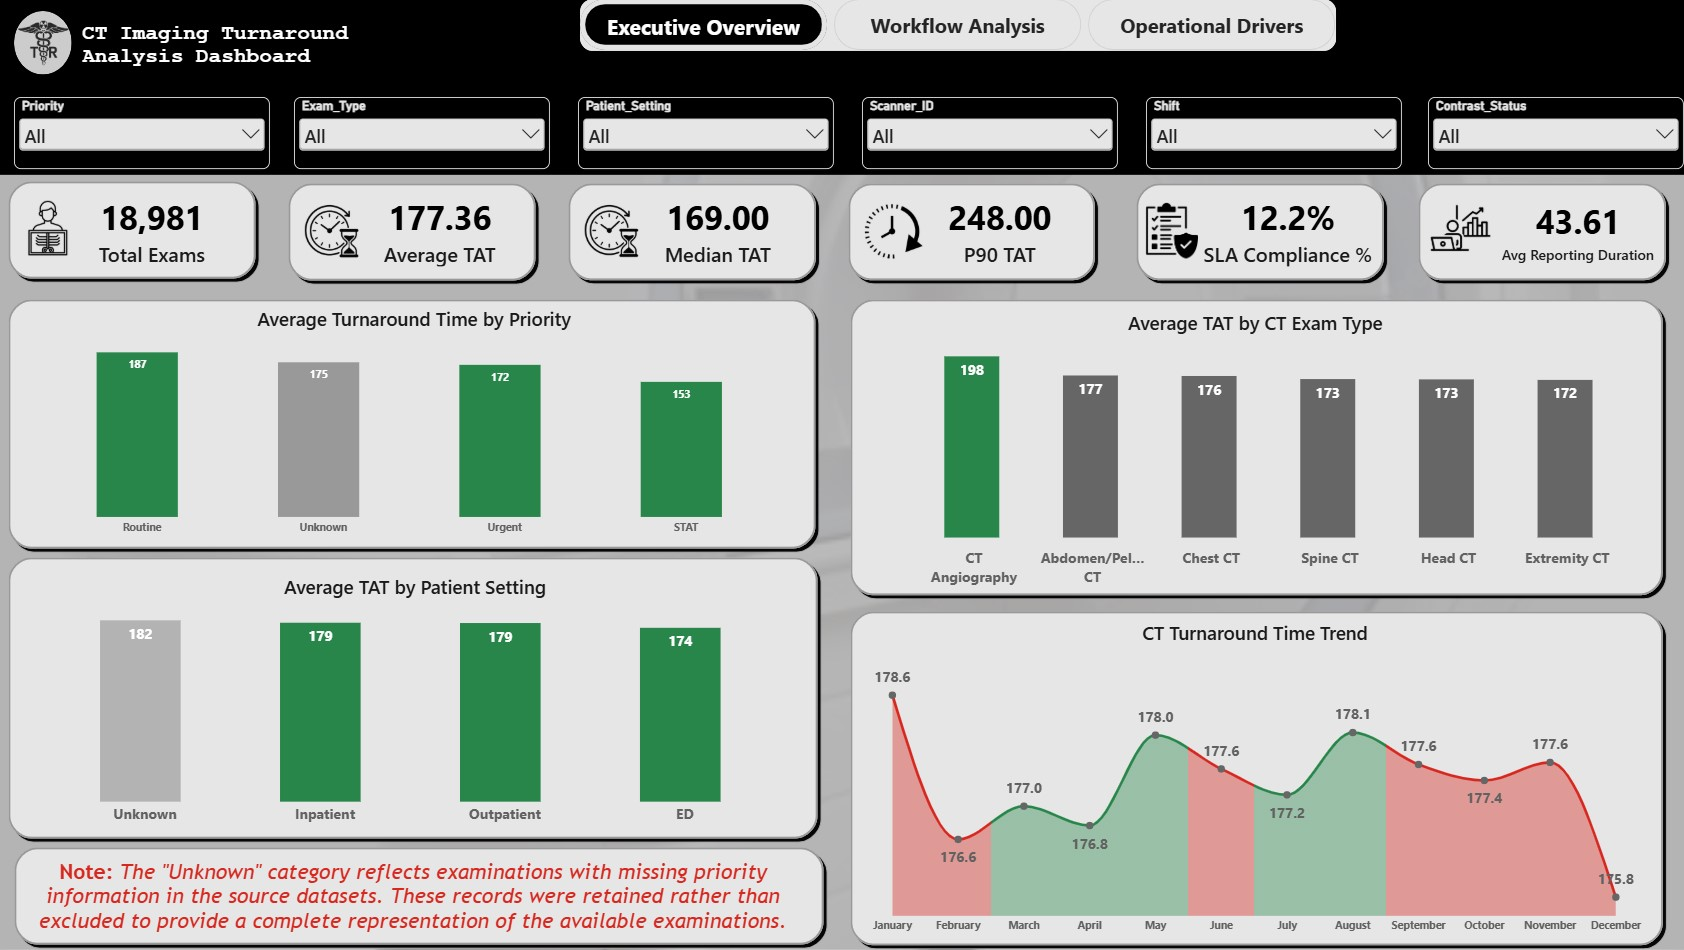

This screenshot's page, from the dashboard's own definition file:
{"tool":"powerbi","page":{"name":"Executive Overview","canvas":[1920,1080],"ordinal":0},"visuals":[{"type":"shape","box":[0,0,1920,200.2],"z":0},{"type":"shape","box":[1611.8,204,291.7,120.2],"z":0,"group":"g6"},{"type":"group","id":"g1","title":"Group 1","box":[20,13.8,66.2,71.2],"z":1000},{"type":"cardVisual","fields":{"Data":["Fact_CT_Exams.Avg Reporting Duration"]},"box":[1693.8,204,209.3,120.9],"z":1000,"group":"g6"},{"type":"textbox","box":[98.8,25,317.5,61.2],"z":2000},{"type":"image","box":[1617.1,231.9,95.3,57],"z":2000,"group":"g6"},{"type":"shape","box":[664.3,0,860.2,59.2],"z":3000},{"type":"shape","box":[20,13.8,65.7,72.3],"z":3000,"group":"g1"},{"type":"image","box":[24,21.8,58.2,56.4],"z":3500,"group":"g1"},{"type":"slicer","fields":{"Values":["Fact_CT_Exams.Priority"]},"box":[20.5,111.5,291.2,81.9],"z":4000},{"type":"slicer","fields":{"Values":["Fact_CT_Exams.Exam_Type"]},"box":[339,111.5,291.2,81.9],"z":5000},{"type":"slicer","fields":{"Values":["Fact_CT_Exams.Patient_Setting"]},"box":[662,111.5,291.2,81.9],"z":6000},{"type":"slicer","fields":{"Values":["Fact_CT_Exams.Scanner_ID"]},"box":[985,111.5,291.2,81.9],"z":7000},{"type":"slicer","fields":{"Values":["Fact_CT_Exams.Shift"]},"box":[1308.1,111.5,291.2,81.9],"z":8000},{"type":"slicer","fields":{"Values":["Fact_CT_Exams.Contrast_Status"]},"box":[1629.5,112.1,291.2,81.9],"z":9000},{"type":"shape","box":[8.4,202,291.2,120.6],"z":10000},{"type":"group","id":"g2","title":"Group 3","box":[326.9,204.2,291.6,120.6],"z":11000},{"type":"shape","box":[326.9,204.2,291.2,120.6],"z":11000,"group":"g2"},{"type":"group","id":"g3","title":"Group 4","box":[646.3,204,291.7,120.2],"z":12000},{"type":"shape","box":[646.3,204,291.7,120.2],"z":12000,"group":"g3"},{"type":"group","id":"g4","title":"Group 5","box":[965.3,204,292,120.2],"z":13000},{"type":"shape","box":[965.3,204,290.5,120.2],"z":13000,"group":"g4"},{"type":"group","id":"g5","title":"Group 6","box":[1292.7,204,292.6,120.2],"z":14000},{"type":"shape","box":[1292.7,204,291.7,120.2],"z":14000,"group":"g5"},{"type":"group","id":"g6","title":"Group 7","box":[1611.8,204,291.7,120.9],"z":15000},{"type":"cardVisual","fields":{"Data":["Fact_CT_Exams.Total Exams"]},"box":[64,214.4,227.8,96],"z":16000,"group":"g7"},{"type":"shape","box":[9.1,336.7,928.2,293.5],"z":16000},{"type":"group","id":"g7","title":"Group 2","box":[18.1,213,273.7,97.4],"z":17000},{"type":"image","box":[18.1,213,81.6,93.6],"z":17000,"group":"g7"},{"type":"cardVisual","fields":{"Data":["Fact_CT_Exams.Average TAT"]},"box":[390.6,215.5,227.8,96],"z":18000,"group":"g2"},{"type":"shape","box":[965.9,336,934.2,346.6],"z":18000},{"type":"image","box":[326.9,219.9,109.7,89.4],"z":19000,"group":"g2"},{"type":"shape","box":[9.1,630.1,930.4,329.9],"z":19000},{"type":"cardVisual","fields":{"Data":["Fact_CT_Exams.Median TAT"]},"box":[708.7,214.4,227.8,96],"z":20000,"group":"g3"},{"type":"shape","box":[965.7,691.4,934.3,390],"z":20000},{"type":"image","box":[646.4,219.6,109.2,88.7],"z":21000,"group":"g3"},{"type":"clusteredColumnChart","title":"Average Turnaround Time by Priority","fields":{"Category":["Fact_CT_Exams.Priority"],"Y":["Fact_CT_Exams.Average TAT"]},"box":[15.9,334.4,919.1,295.7],"z":21000},{"type":"cardVisual","fields":{"Data":["Fact_CT_Exams.P90 TAT"]},"box":[1029.5,214.4,227.8,96],"z":22000,"group":"g4"},{"type":"clusteredColumnChart","title":"Average TAT by CT Exam Type","fields":{"Y":["Fact_CT_Exams.Average TAT"],"Category":["Fact_CT_Exams.Exam_Type"]},"box":[974.3,338.2,917.3,346.6],"z":22000},{"type":"image","box":[965.3,218.3,109.5,91.7],"z":23000,"group":"g4"},{"type":"clusteredColumnChart","title":"Average TAT by Patient Setting","fields":{"Y":["Fact_CT_Exams.Average TAT"],"Category":["Fact_CT_Exams.Patient_Setting"]},"box":[20.5,639.2,912.2,320.8],"z":23000},{"type":"cardVisual","fields":{"Data":["Fact_CT_Exams.SLA Compliance %"]},"box":[1357.4,215.6,227.8,96],"z":24000,"group":"g5"},{"type":"lineChart","title":"CT Turnaround Time Trend","fields":{"Category":["DateTable.Date.Variation.Date Hierarchy.Month"],"Y":["Fact_CT_Exams.Average TAT"]},"box":[973.6,691.6,916.8,391.3],"z":24000},{"type":"pageNavigator","box":[664.4,0,860.3,58.9],"z":25000},{"type":"image","box":[1304.2,228.4,68.6,67.4],"z":25000,"group":"g5"},{"type":"shape","box":[15.9,960,930.4,120.6],"z":25001},{"type":"textbox","box":[31.8,978.2,884.9,88.7],"z":25002}]}

Visuals, with their boxes in screenshot pixels (x1, y1, x2, y2), scaled from the page's 1920x1080 canvas onto the 1684x950 screenshot:
shape: rect(0, 0, 1683, 176)
shape: rect(1414, 179, 1670, 285)
"Group 1" group: rect(18, 12, 76, 75)
cardVisual - Fact_CT_Exams.Avg Reporting Duration: rect(1486, 179, 1669, 286)
textbox: rect(87, 22, 365, 76)
image: rect(1418, 204, 1502, 254)
shape: rect(583, 0, 1337, 52)
shape: rect(18, 12, 75, 76)
image: rect(21, 19, 72, 69)
slicer - Fact_CT_Exams.Priority: rect(18, 98, 273, 170)
slicer - Fact_CT_Exams.Exam_Type: rect(297, 98, 553, 170)
slicer - Fact_CT_Exams.Patient_Setting: rect(581, 98, 836, 170)
slicer - Fact_CT_Exams.Scanner_ID: rect(864, 98, 1119, 170)
slicer - Fact_CT_Exams.Shift: rect(1147, 98, 1403, 170)
slicer - Fact_CT_Exams.Contrast_Status: rect(1429, 99, 1683, 171)
shape: rect(7, 178, 263, 284)
"Group 3" group: rect(287, 180, 542, 286)
shape: rect(287, 180, 542, 286)
"Group 4" group: rect(567, 179, 823, 285)
shape: rect(567, 179, 823, 285)
"Group 5" group: rect(847, 179, 1103, 285)
shape: rect(847, 179, 1101, 285)
"Group 6" group: rect(1134, 179, 1390, 285)
shape: rect(1134, 179, 1390, 285)
"Group 7" group: rect(1414, 179, 1670, 286)
cardVisual - Fact_CT_Exams.Total Exams: rect(56, 189, 256, 273)
shape: rect(8, 296, 822, 554)
"Group 2" group: rect(16, 187, 256, 273)
image: rect(16, 187, 87, 270)
cardVisual - Fact_CT_Exams.Average TAT: rect(343, 190, 542, 274)
shape: rect(847, 296, 1667, 600)
image: rect(287, 193, 383, 272)
shape: rect(8, 554, 824, 844)
cardVisual - Fact_CT_Exams.Median TAT: rect(622, 189, 821, 273)
shape: rect(847, 608, 1666, 949)
image: rect(567, 193, 663, 271)
"Average Turnaround Time by Priority" clusteredColumnChart: rect(14, 294, 820, 554)
cardVisual - Fact_CT_Exams.P90 TAT: rect(903, 189, 1103, 273)
"Average TAT by CT Exam Type" clusteredColumnChart: rect(855, 297, 1659, 602)
image: rect(847, 192, 943, 273)
"Average TAT by Patient Setting" clusteredColumnChart: rect(18, 562, 818, 844)
cardVisual - Fact_CT_Exams.SLA Compliance %: rect(1191, 190, 1390, 274)
"CT Turnaround Time Trend" lineChart: rect(854, 608, 1658, 949)
pageNavigator: rect(583, 0, 1337, 52)
image: rect(1144, 201, 1204, 260)
shape: rect(14, 844, 830, 949)
textbox: rect(28, 860, 804, 938)
